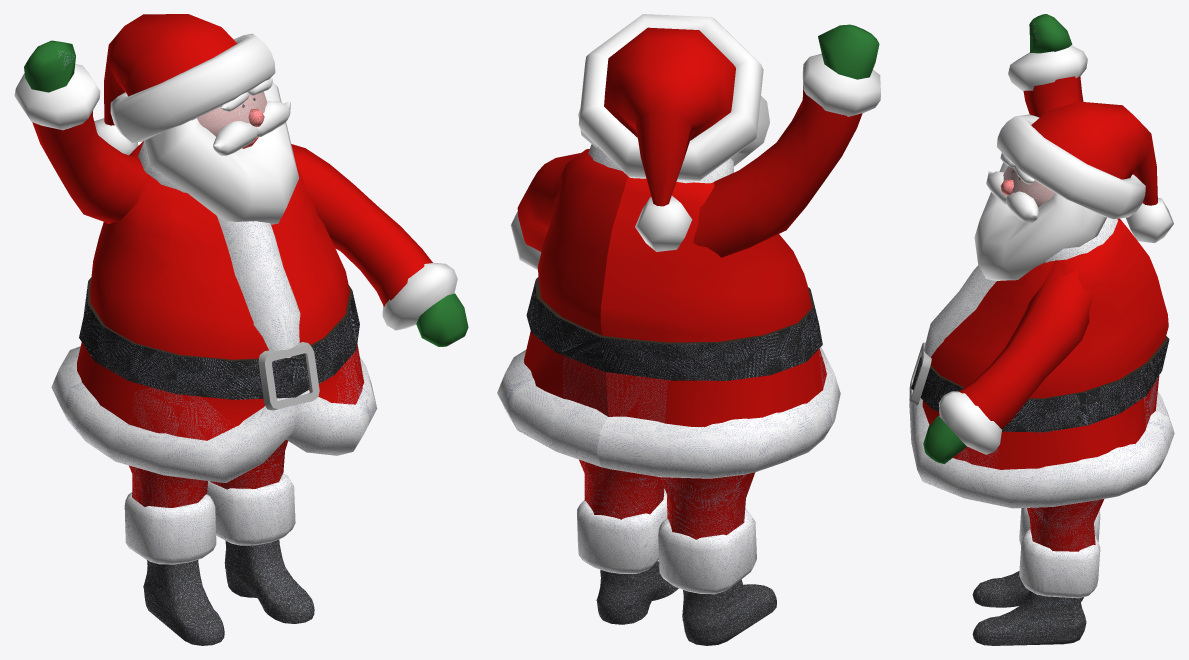
3 views of the same model, side by side, from view 1: azimuth 30°, elevation 25°; view 2: azimuth 150°, elevation 25°; view 3: azimuth 270°, elevation 25° (orthographic). The views are drawn at different scales.
Parts seen in each view (by area): view 1: Coat_Half (×4), Coat_Trim_Half (×2), Sleeve (×2), Belt_Strap (×2), Beard, Cuff (×2), Boot (×2), Hat_Brim, Hat_Stocking, Collar, Arm_Cuff (×2), Mitten (×2) (+5 smaller); view 2: Coat_Half (×4), Coat_Trim_Half (×2), Sleeve (×2), Hat_Stocking, Belt_Strap (×2), Hat_Brim, Cuff (×2), Pants_Half (×2), Boot (×2), Arm_Cuff (×2), Mitten, Hat_Pompom (+2 smaller); view 3: Coat_Half (×3), Coat_Trim_Half, Sleeve (×2), Beard, Hat_Stocking, Hat_Brim, Belt_Strap (×2), Boot (×2), Arm_Cuff (×2), Cuff (×2), Collar, Pants_Half (+5 smaller).
Boxes of the visible parts, x1=… form: Coat_Half (×4): x1=77, y1=141, x2=363, y2=440; Coat_Trim_Half (×2): x1=51, y1=346, x2=377, y2=482; Sleeve (×2): x1=32, y1=111, x2=432, y2=306; Belt_Strap (×2): x1=79, y1=277, x2=359, y2=399; Beard: x1=143, y1=82, x2=299, y2=224; Cuff (×2): x1=124, y1=473, x2=295, y2=564; Boot (×2): x1=143, y1=539, x2=314, y2=645; Hat_Brim: x1=110, y1=33, x2=275, y2=142; Hat_Stocking: x1=104, y1=14, x2=237, y2=125; Collar: x1=138, y1=142, x2=300, y2=357; Arm_Cuff (×2): x1=14, y1=64, x2=457, y2=330; Mitten (×2): x1=24, y1=40, x2=468, y2=346; Coat_Half (×4): x1=524, y1=149, x2=822, y2=427; Coat_Trim_Half (×2): x1=497, y1=347, x2=840, y2=478; Sleeve (×2): x1=517, y1=86, x2=862, y2=257; Hat_Stocking: x1=604, y1=27, x2=735, y2=206; Belt_Strap (×2): x1=526, y1=277, x2=822, y2=380; Hat_Brim: x1=578, y1=14, x2=763, y2=180; Cuff (×2): x1=577, y1=490, x2=756, y2=594; Pants_Half (×2): x1=579, y1=459, x2=755, y2=539; Boot (×2): x1=596, y1=561, x2=776, y2=645; Arm_Cuff (×2): x1=510, y1=53, x2=880, y2=269; Mitten: x1=818, y1=24, x2=879, y2=79; Hat_Pompom: x1=635, y1=195, x2=692, y2=251; Coat_Half (×3): x1=922, y1=221, x2=1168, y2=469; Coat_Trim_Half: x1=909, y1=398, x2=1174, y2=508; Sleeve (×2): x1=959, y1=76, x2=1094, y2=429; Beard: x1=974, y1=162, x2=1106, y2=280; Hat_Stocking: x1=1031, y1=101, x2=1157, y2=205; Hat_Brim: x1=996, y1=114, x2=1145, y2=218; Belt_Strap (×2): x1=911, y1=336, x2=1169, y2=432; Boot (×2): x1=972, y1=571, x2=1086, y2=645; Arm_Cuff (×2): x1=939, y1=45, x2=1087, y2=454; Cuff (×2): x1=1019, y1=508, x2=1100, y2=598; Collar: x1=923, y1=217, x2=1117, y2=357; Pants_Half: x1=1027, y1=499, x2=1104, y2=551.
Bounding box in the file's own units: 50.89 × 34.49 × 76.13.
